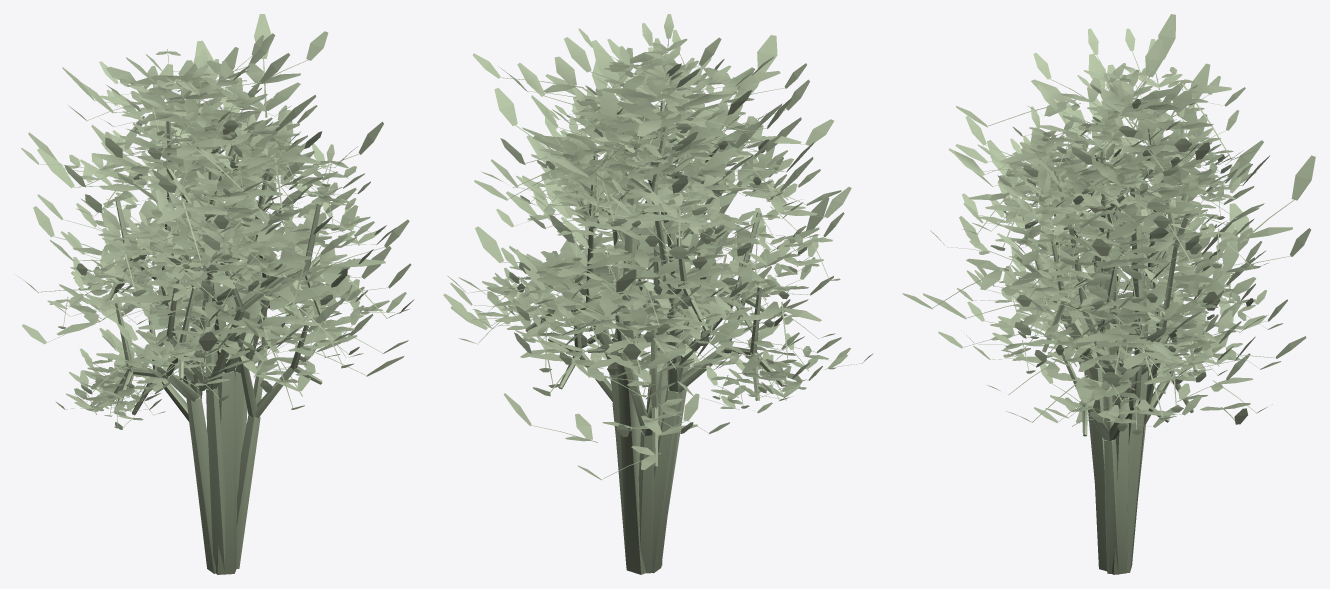
File: tree_boxelder.glb
3 views of the same model, side by side, from view 1: azimuth 30°, elevation 25°; view 2: azimuth 150°, elevation 25°; view 3: azimuth 270°, elevation 25° (orthographic). The views are drawn at different scales.
Parts seen in each view (by area): view 1: tier0_foliage, tier2_foliage, tier1_foliage, tier1_bark, tier2_bark, tier0_bark; view 2: tier0_foliage, tier2_foliage, tier1_foliage, tier2_bark, tier1_bark, tier0_bark; view 3: tier0_foliage, tier2_foliage, tier1_foliage, tier1_bark, tier0_bark, tier2_bark.
Part boxes in pixels (x1=…): tier0_foliage: x1=18, y1=14, x2=410, y2=377; tier2_foliage: x1=21, y1=35, x2=414, y2=429; tier1_foliage: x1=22, y1=49, x2=411, y2=413; tier1_bark: x1=128, y1=144, x2=322, y2=571; tier2_bark: x1=109, y1=117, x2=326, y2=573; tier0_bark: x1=205, y1=172, x2=245, y2=574; tier0_foliage: x1=450, y1=35, x2=834, y2=399; tier2_foliage: x1=447, y1=14, x2=873, y2=413; tier1_foliage: x1=443, y1=47, x2=851, y2=480; tier2_bark: x1=525, y1=100, x2=784, y2=573; tier1_bark: x1=548, y1=131, x2=761, y2=573; tier0_bark: x1=604, y1=159, x2=667, y2=574; tier0_foliage: x1=902, y1=14, x2=1315, y2=422; tier2_foliage: x1=957, y1=28, x2=1283, y2=393; tier1_foliage: x1=930, y1=39, x2=1287, y2=434; tier1_bark: x1=1014, y1=153, x2=1193, y2=574; tier0_bark: x1=1064, y1=185, x2=1157, y2=572; tier2_bark: x1=1042, y1=129, x2=1216, y2=574.
Bounding box in the file's own units: 0.732 × 1 × 0.76.
